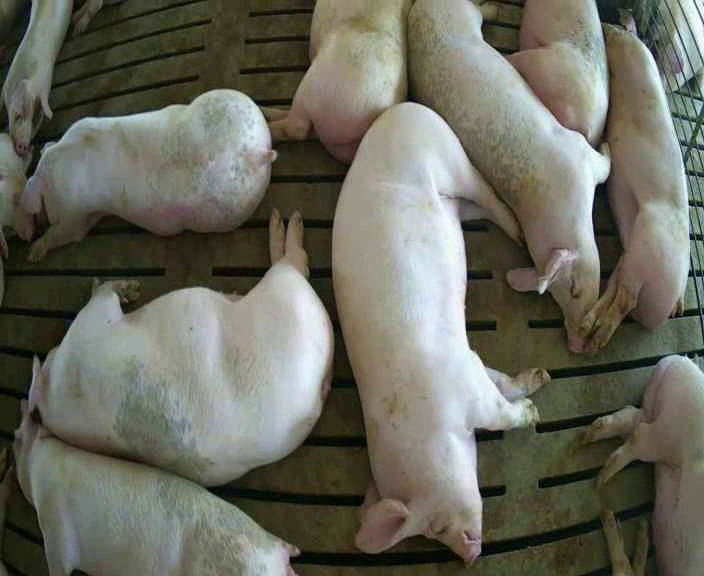pig: (333, 103, 548, 562), (28, 210, 332, 485), (408, 1, 608, 351), (14, 401, 296, 574), (20, 89, 275, 260), (581, 7, 688, 351), (581, 355, 703, 574), (260, 2, 409, 162), (507, 1, 608, 146), (2, 1, 72, 159)
